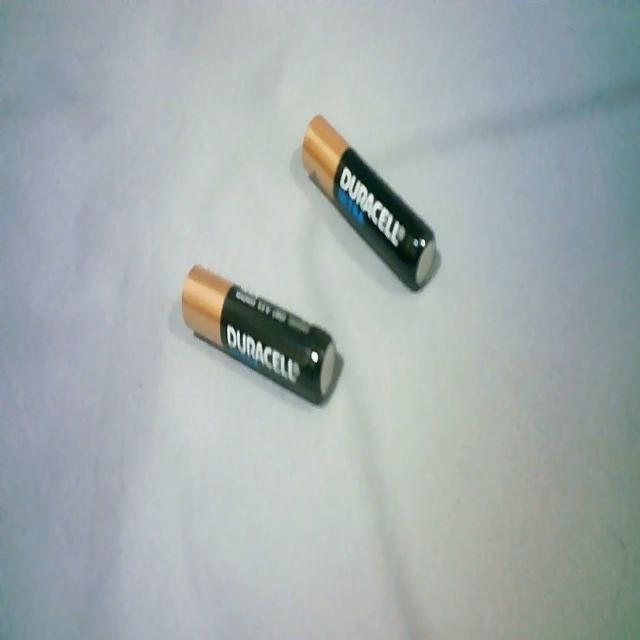AAA: (295, 110, 442, 289), (177, 256, 340, 406)
